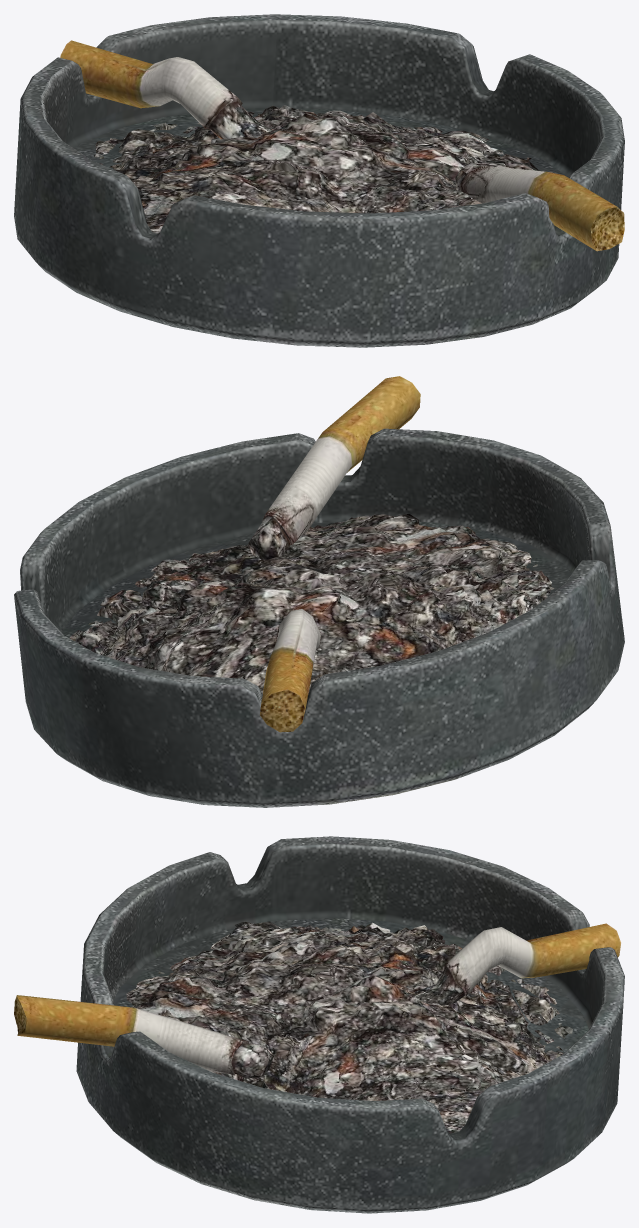
File: Pepelnitsa.glb
The picture shows the model from 3 angles, top to bottom: view 1: azimuth 30°, elevation 25°; view 2: azimuth 150°, elevation 25°; view 3: azimuth 270°, elevation 25°; orthographic projection. The views are drawn at different scales.
Visible parts, largest first — view 1: Object_62; view 2: Object_62; view 3: Object_62.
Boxes of the visible parts, x1,y1,x2,y2 form: Object_62: [14, 14, 624, 347]; Object_62: [14, 376, 624, 807]; Object_62: [14, 836, 624, 1213].
Bounding box in the file's own units: 0.2208 × 0.0723 × 0.2448.
1 material, 1 textured.
